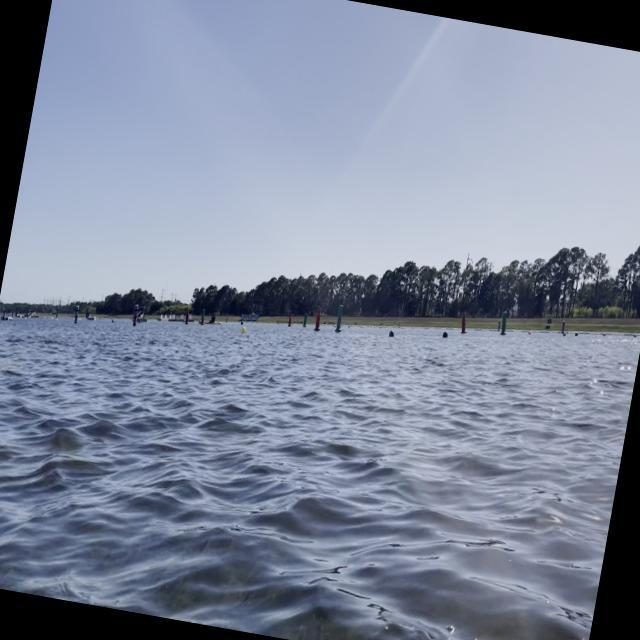buoy: (238, 324, 246, 334), (441, 330, 448, 340), (388, 328, 394, 338)
